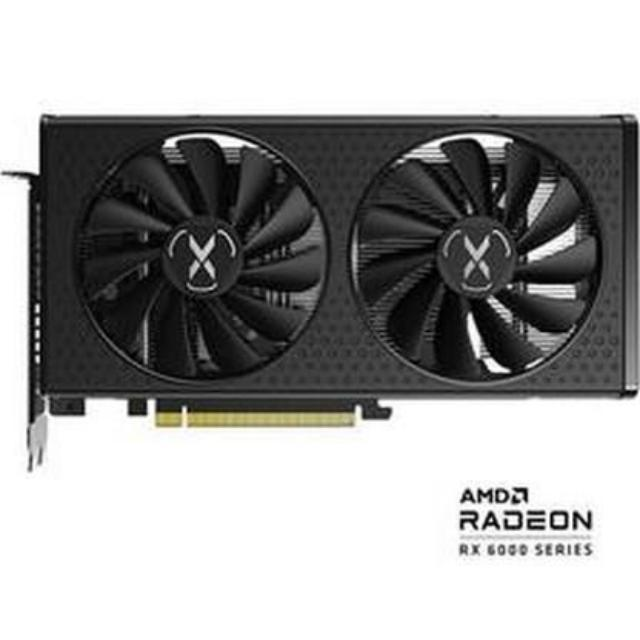GPU: (15, 94, 640, 432)
